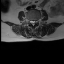CCS_normal: (32, 19, 34, 27)
LFS_normal: (35, 19, 38, 24)
LLS_normal: (33, 19, 35, 25)
RFS_normal: (28, 19, 30, 25)
RLS_normal: (30, 19, 32, 24)
